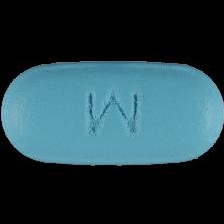0378-7002: (0, 0, 224, 224)
